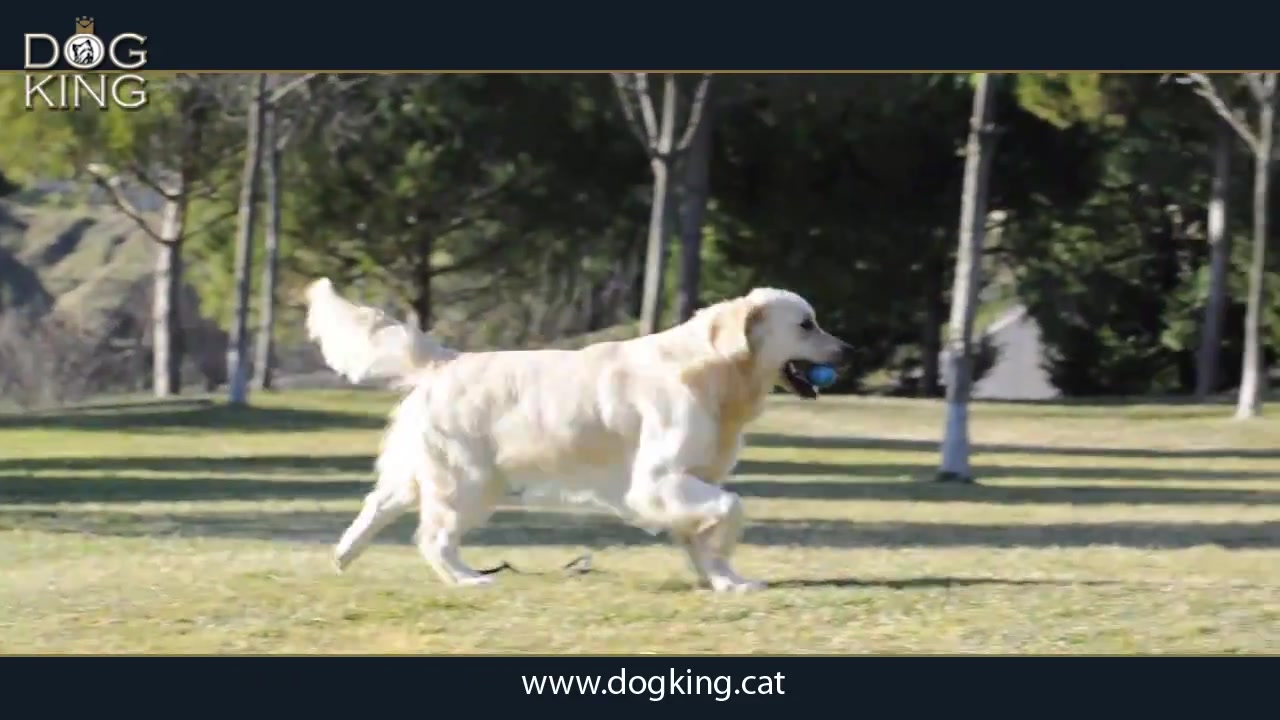dog: (306, 270, 859, 599)
